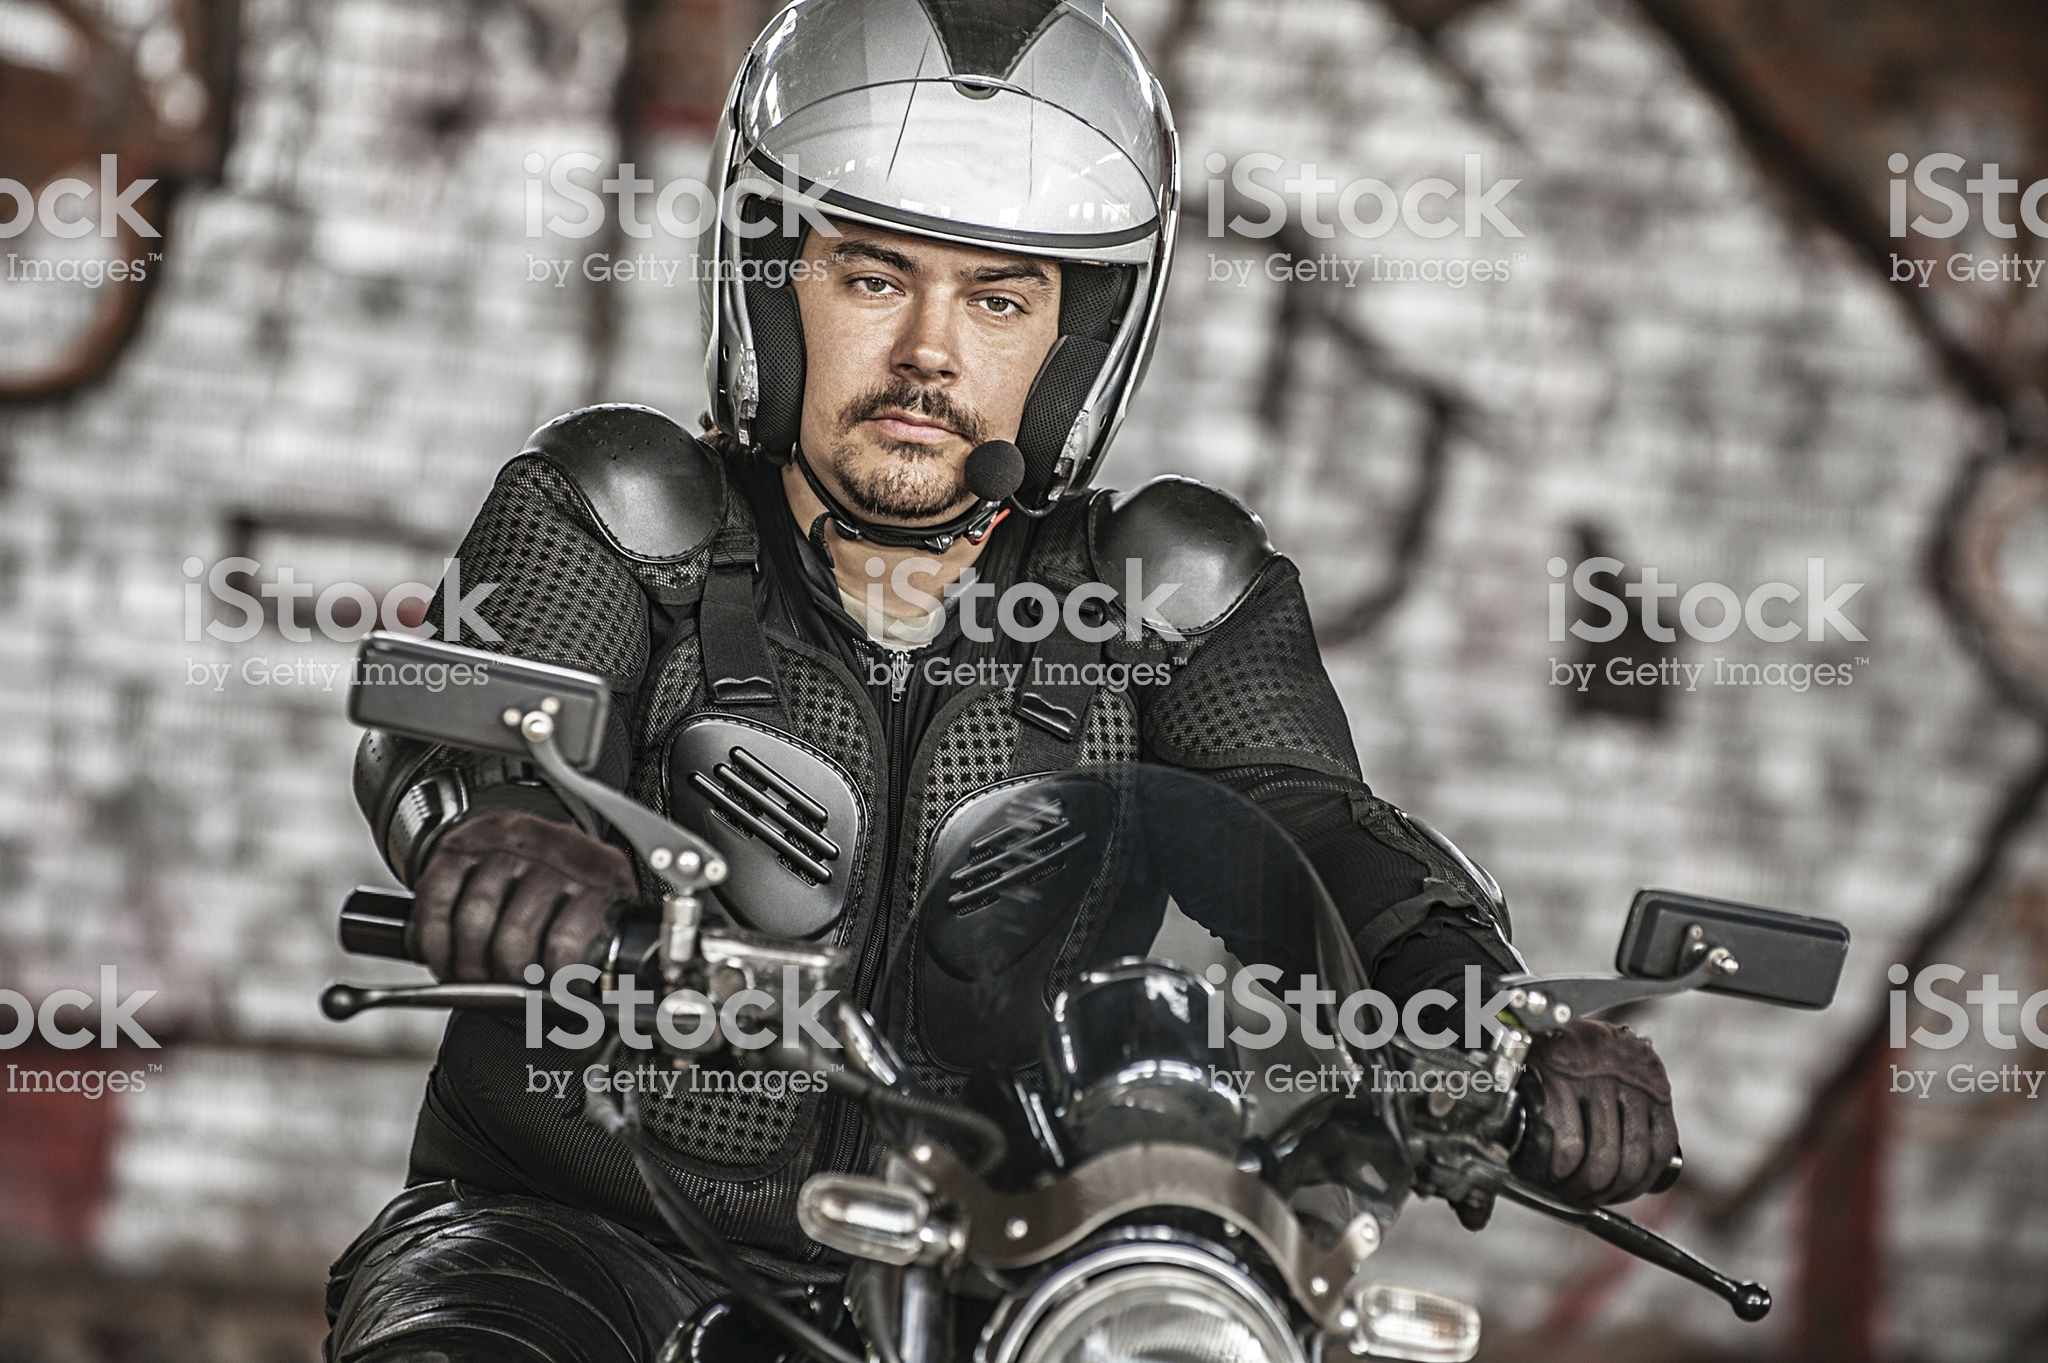helmet: (693, 20, 1197, 505)
